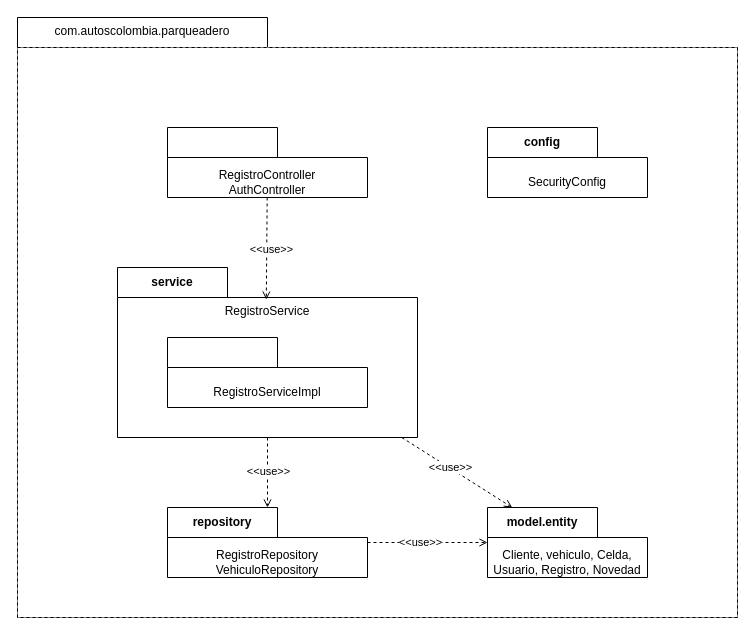
The diagram is 755 pixels wide and 635 high, and some of its shapes have lost their labels. The shapes that lost their labels are listed below. From the top down, each one's centre as x and y in pixels, then its label:
At (x=267, y=162): "controller".
At (x=267, y=372): "impl".
